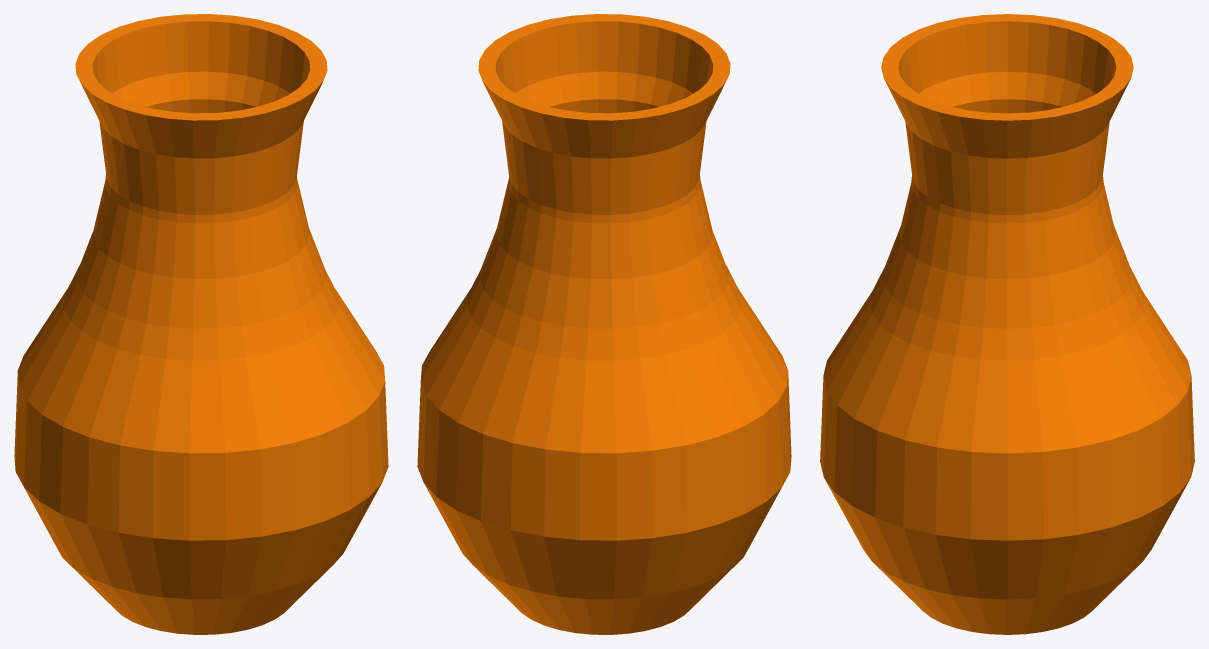
The model's file is vase.glb.
The picture shows the model from 3 angles, left to right: view 1: azimuth 30°, elevation 25°; view 2: azimuth 150°, elevation 25°; view 3: azimuth 270°, elevation 25°; orthographic projection.
Parts seen in each view (by area): view 1: vase; view 2: vase; view 3: vase.
Boxes of the visible parts, x1=… form: vase: x1=14, y1=14, x2=388, y2=634; vase: x1=417, y1=14, x2=791, y2=634; vase: x1=820, y1=14, x2=1194, y2=634.
Size of the model in its own units: 35.3 by 54.96 by 35.3.
